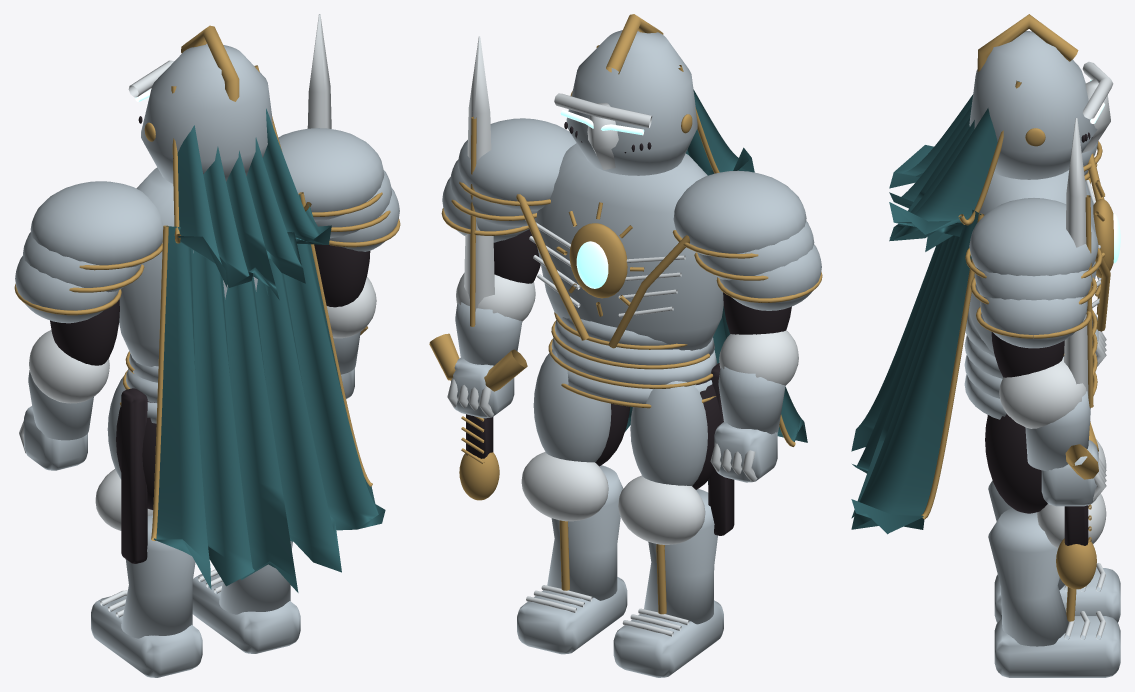
File: kiteveil-raw.glb
3 views of the same model, side by side, from view 1: azimuth 30°, elevation 25°; view 2: azimuth 150°, elevation 25°; view 3: azimuth 270°, elevation 25° (orthographic).
Visible parts, largest first — view 1: Cape_Pilgrim teal linen, Head_Pilgrim teal linen, Arm_L_Ivory silver plate, Head_Ivory silver plate, Leg_L_Ivory silver plate, Arm_R_Ivory silver plate, Leg_R_Ivory silver plate, Torso_Ivory silver plate, Forearm_L_Ivory silver plate, Torso_Oiled leather, Arm_L_Burnished plate edges, Cape_Antique electrum (+10 smaller); view 2: Torso_Ivory silver plate, Leg_L_Ivory silver plate, Leg_R_Ivory silver plate, Arm_L_Ivory silver plate, Head_Ivory silver plate, Arm_R_Ivory silver plate, Torso_Antique electrum, Forearm_L_Ivory silver plate, Leg_R_Burnished plate edges, Leg_L_Burnished plate edges, Forearm_R_Ivory silver plate, Sword_R_Antique electrum (+21 smaller); view 3: Cape_Pilgrim teal linen, Arm_R_Ivory silver plate, Leg_R_Ivory silver plate, Head_Ivory silver plate, Head_Pilgrim teal linen, Torso_Ivory silver plate, Forearm_R_Ivory silver plate, Leg_R_Oiled leather, Arm_R_Burnished plate edges, Sword_R_Antique electrum, Sword_R_Burnished plate edges, Leg_L_Ivory silver plate (+8 smaller).
Boxes of the visible parts, x1,y1,x2,y2 form: Cape_Pilgrim teal linen: (154, 194, 385, 592); Head_Pilgrim teal linen: (177, 108, 331, 299); Arm_L_Ivory silver plate: (15, 181, 163, 323); Head_Ivory silver plate: (141, 44, 272, 183); Leg_L_Ivory silver plate: (91, 372, 202, 677); Arm_R_Ivory silver plate: (278, 128, 399, 251); Leg_R_Ivory silver plate: (192, 541, 300, 653); Torso_Ivory silver plate: (119, 167, 257, 423); Forearm_L_Ivory silver plate: (24, 370, 93, 470); Torso_Oiled leather: (121, 388, 147, 563); Arm_L_Burnished plate edges: (29, 330, 109, 403); Cape_Antique electrum: (151, 192, 372, 540); Torso_Ivory silver plate: (534, 143, 723, 403); Leg_L_Ivory silver plate: (613, 381, 723, 677); Leg_R_Ivory silver plate: (517, 349, 627, 654); Arm_L_Ivory silver plate: (673, 170, 821, 310); Head_Ivory silver plate: (566, 30, 697, 175); Arm_R_Ivory silver plate: (442, 118, 576, 242); Torso_Antique electrum: (516, 194, 715, 408); Forearm_L_Ivory silver plate: (714, 366, 785, 482); Leg_R_Burnished plate edges: (521, 452, 608, 612); Leg_L_Burnished plate edges: (618, 475, 705, 636); Forearm_R_Ivory silver plate: (451, 302, 522, 418); Sword_R_Antique electrum: (429, 116, 527, 500); Cape_Pilgrim teal linen: (851, 210, 981, 534); Arm_R_Ivory silver plate: (969, 198, 1098, 348); Leg_R_Ivory silver plate: (988, 420, 1120, 677); Head_Ivory silver plate: (969, 31, 1097, 179); Head_Pilgrim teal linen: (889, 81, 1019, 251); Torso_Ivory silver plate: (964, 170, 1096, 419); Forearm_R_Ivory silver plate: (1025, 391, 1098, 506); Leg_R_Oiled leather: (985, 414, 1047, 513); Arm_R_Burnished plate edges: (999, 358, 1086, 428); Sword_R_Antique electrum: (1056, 195, 1098, 589); Sword_R_Burnished plate edges: (1064, 118, 1088, 395); Leg_L_Ivory silver plate: (988, 408, 1120, 622).
Size of the model in its own units: 1.36 by 2.2 by 0.854.
